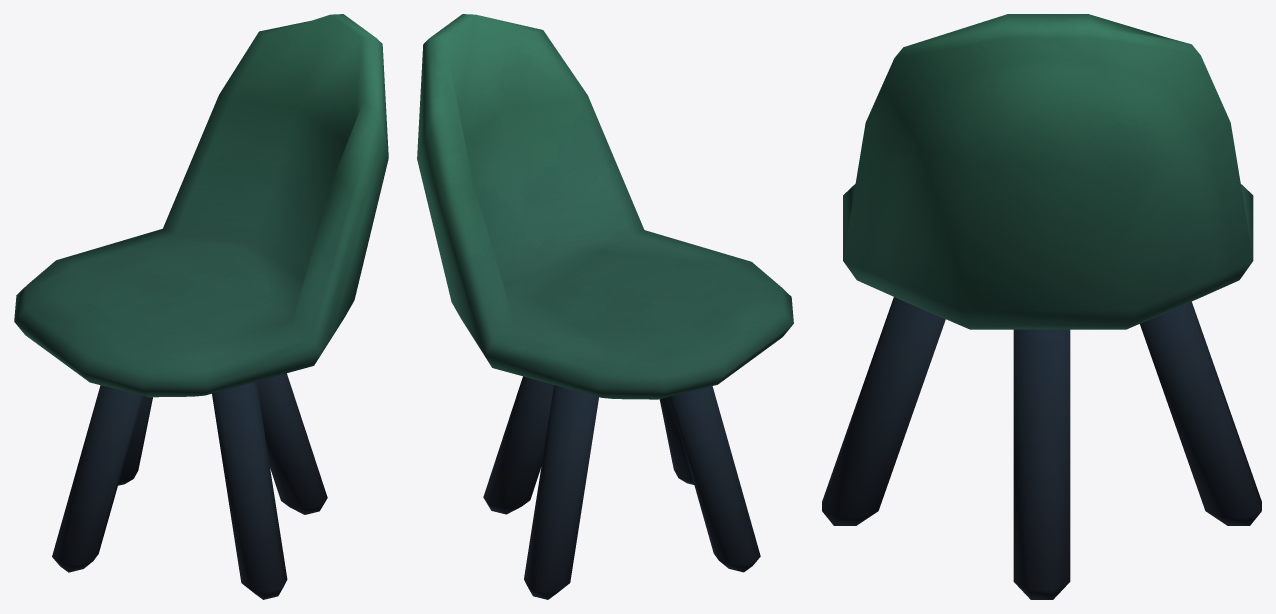
The model's file is chair.fbx.
3 views of the same model, side by side, from view 1: azimuth 30°, elevation 25°; view 2: azimuth 150°, elevation 25°; view 3: azimuth 270°, elevation 25° (orthographic). The views are drawn at different scales.
Parts seen in each view (by area): view 1: Cube.002; view 2: Cube.002; view 3: Cube.002.
Part boxes in pixels (bbox=[...]): Cube.002: bbox=[14, 14, 388, 599]; Cube.002: bbox=[417, 14, 793, 599]; Cube.002: bbox=[822, 14, 1261, 599].
Bounding box in the file's own units: 215 × 201 × 306.
Materials: 1 (1 with a texture image).
